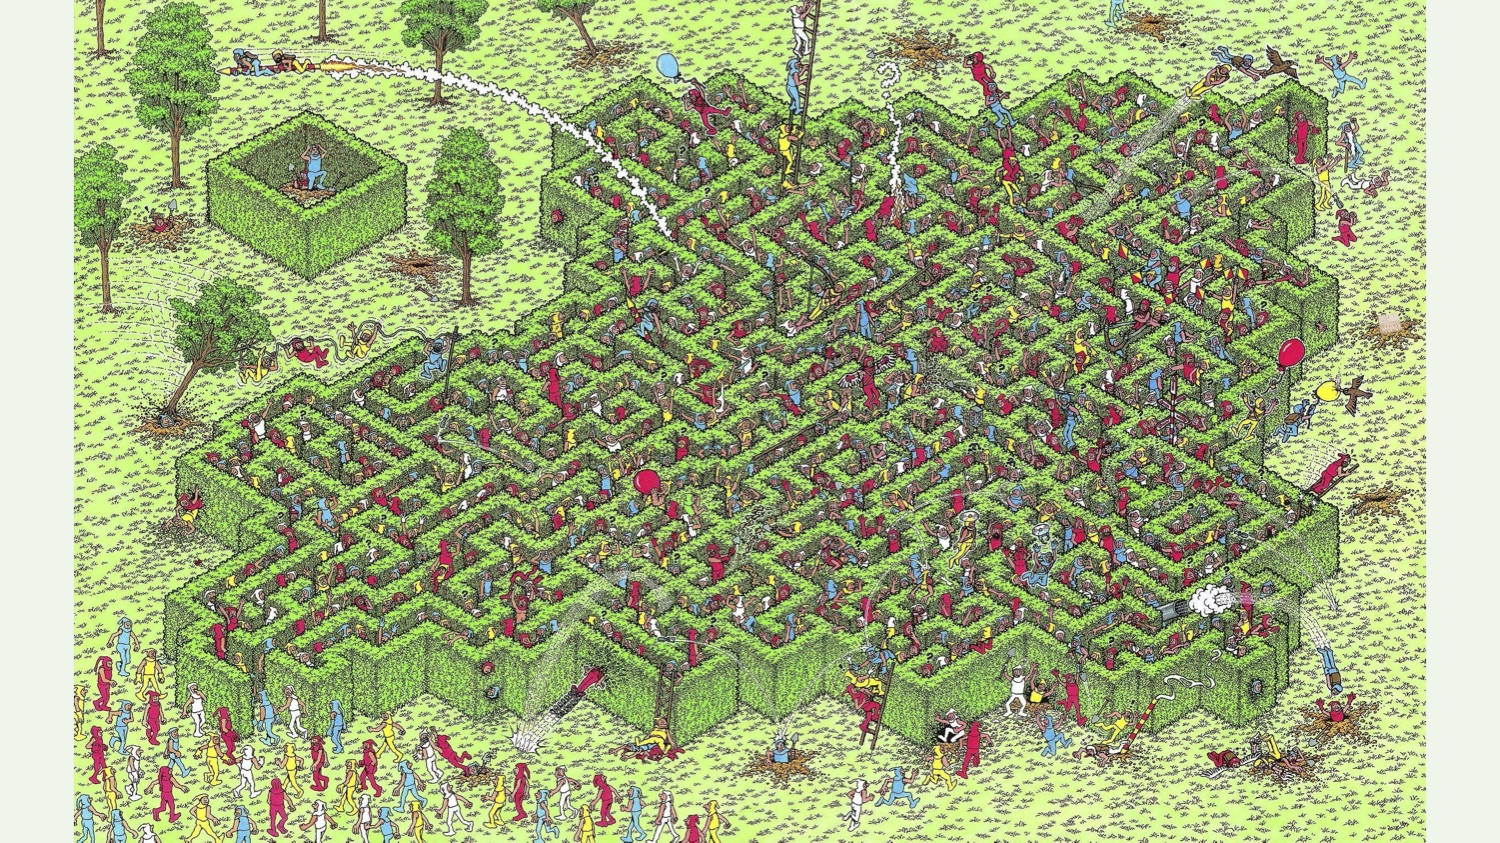Waldo: (830, 351, 844, 370)
